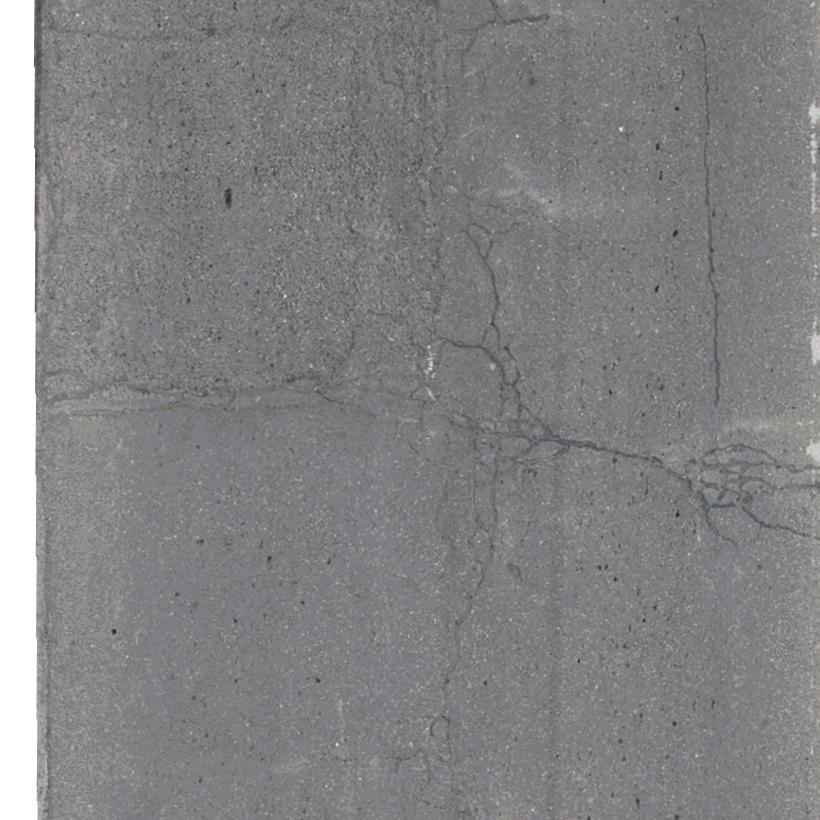GRIETA: (48, 371, 308, 407), (697, 26, 721, 409), (442, 562, 488, 710), (569, 439, 678, 480), (40, 25, 163, 43)
PIEL DE COCODRILO: (311, 0, 570, 562), (312, 711, 481, 819), (675, 440, 819, 563)
